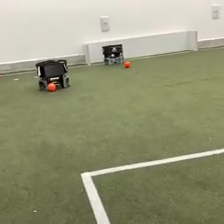ball: (45, 80, 57, 92), (122, 59, 131, 68)
goal: (82, 27, 200, 67)
robot: (32, 57, 72, 92), (99, 42, 126, 66)
